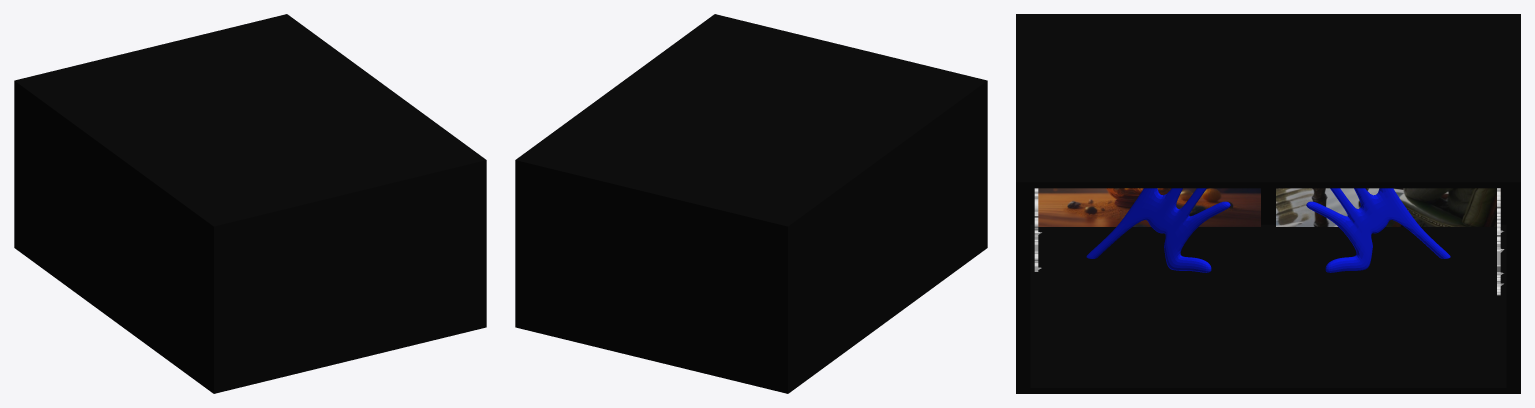
3 renders of one model, left to right at view 1: azimuth 30°, elevation 25°; view 2: azimuth 150°, elevation 25°; view 3: azimuth 270°, elevation 25°, orthographic. The views are drawn at different scales.
Parts seen in each view (by area): view 1: Cube; view 2: Cube; view 3: Cube, Cube.001, Plane.003, Plane.004.
Part boxes in pixels (<box>): Cube: <box>14,14,486,393</box>; Cube: <box>515,14,987,393</box>; Cube: <box>1016,14,1520,393</box>; Cube.001: <box>1086,188,1450,272</box>; Plane.003: <box>1038,188,1260,226</box>; Plane.004: <box>1276,188,1500,226</box>.
Size of the model in its own units: 400 by 234 by 507.
8 materials, 4 textured.
